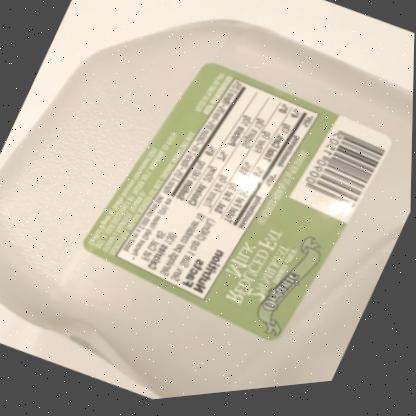Plastic: (0, 24, 414, 402)
